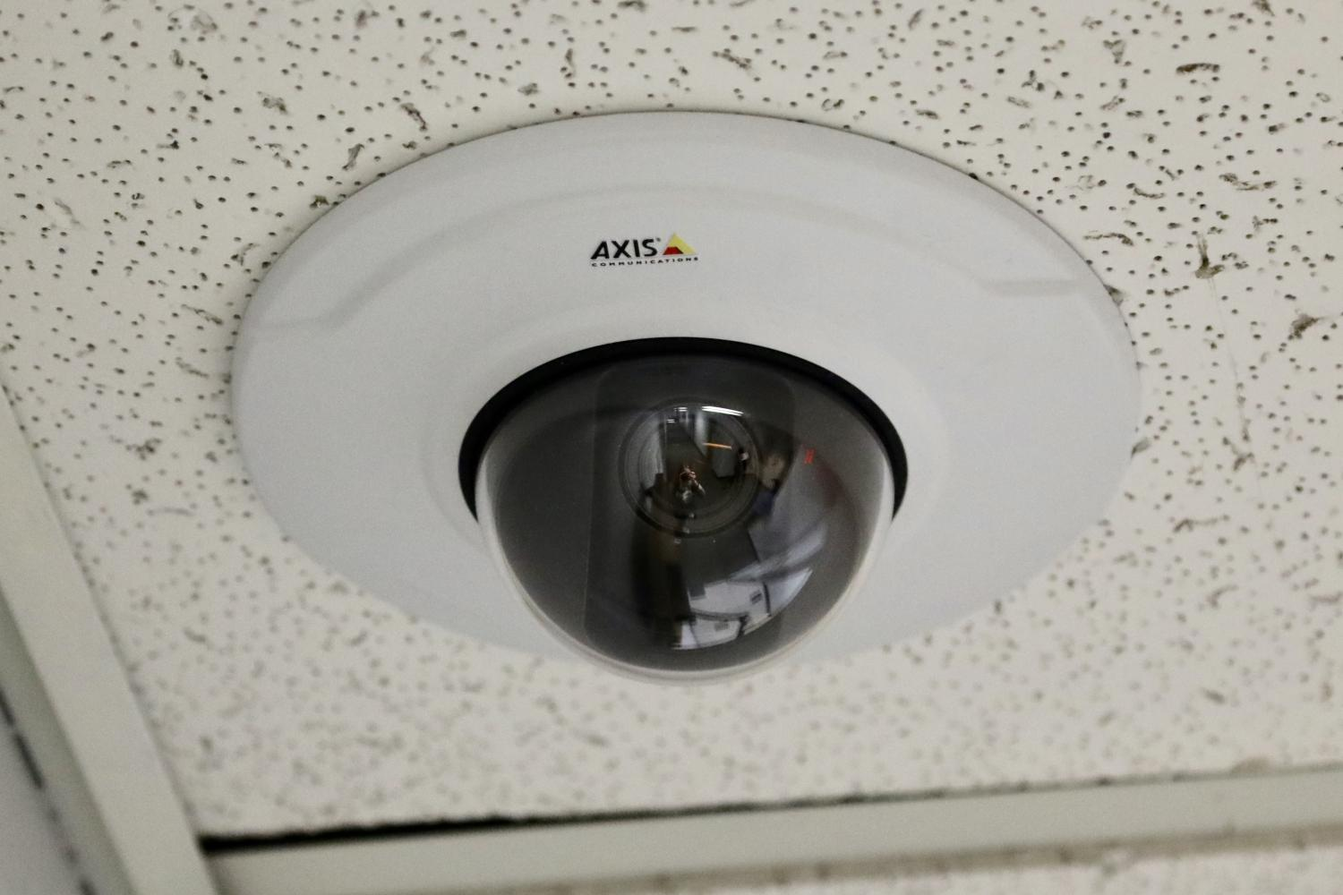CCTV: (232, 112, 1142, 683)
